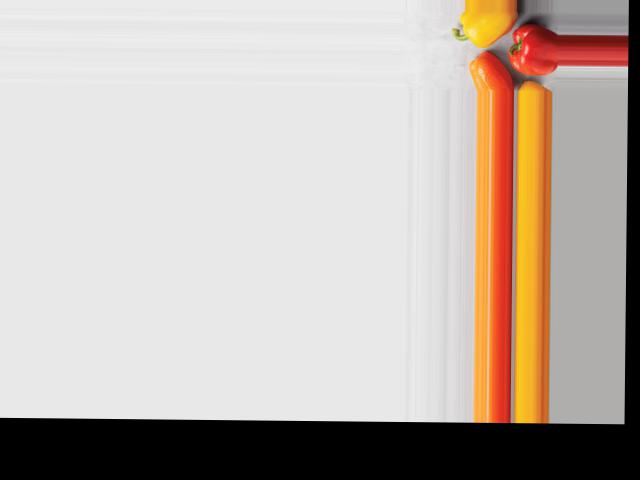bell_pepper: (509, 19, 556, 75)
